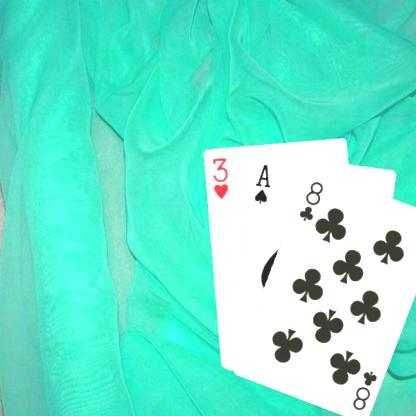3H: (209, 154, 229, 200)
8C: (349, 367, 379, 412), (296, 178, 325, 223)
AS: (251, 161, 272, 205)
